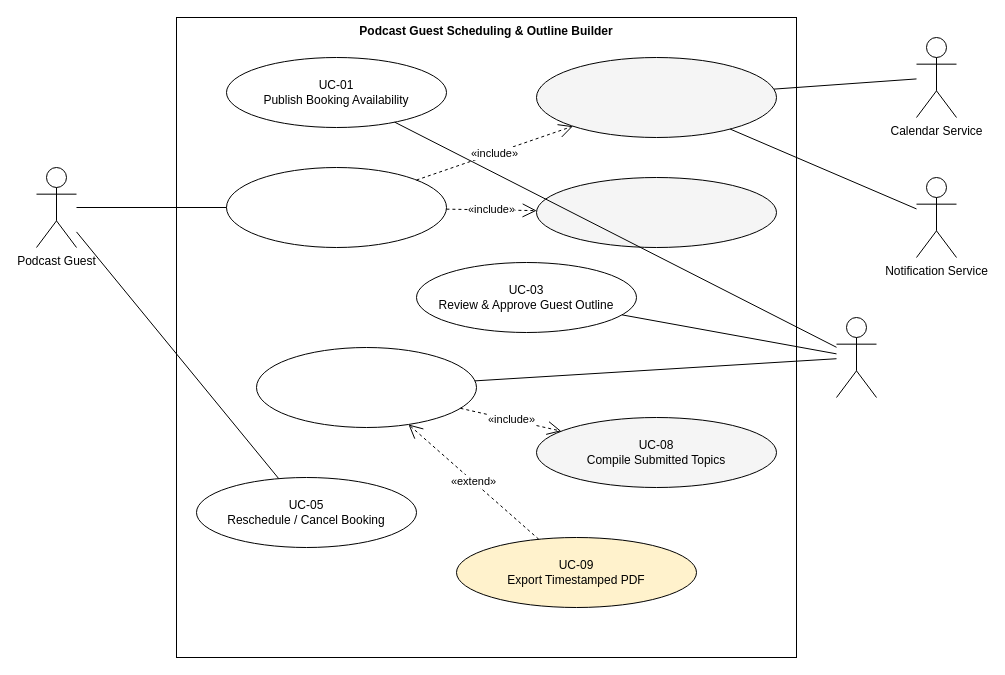
Image size: 1005x675. Some labels were removed from this diagram. The shapes that lost their labels are listed below. From the top down, each one's centre as x and y in pixels, then its label:
At point 656,97: "UC-07 Send Calendar Invite & Confirmation".
At point 336,207: "UC-02 Book Interview Slot & Submit Outline".
At point 656,212: "UC-06 Validate Slot Availability".
At point 856,357: "Show Host".
At point 366,387: "UC-04 Generate Run-of-Show Production Sheet".
